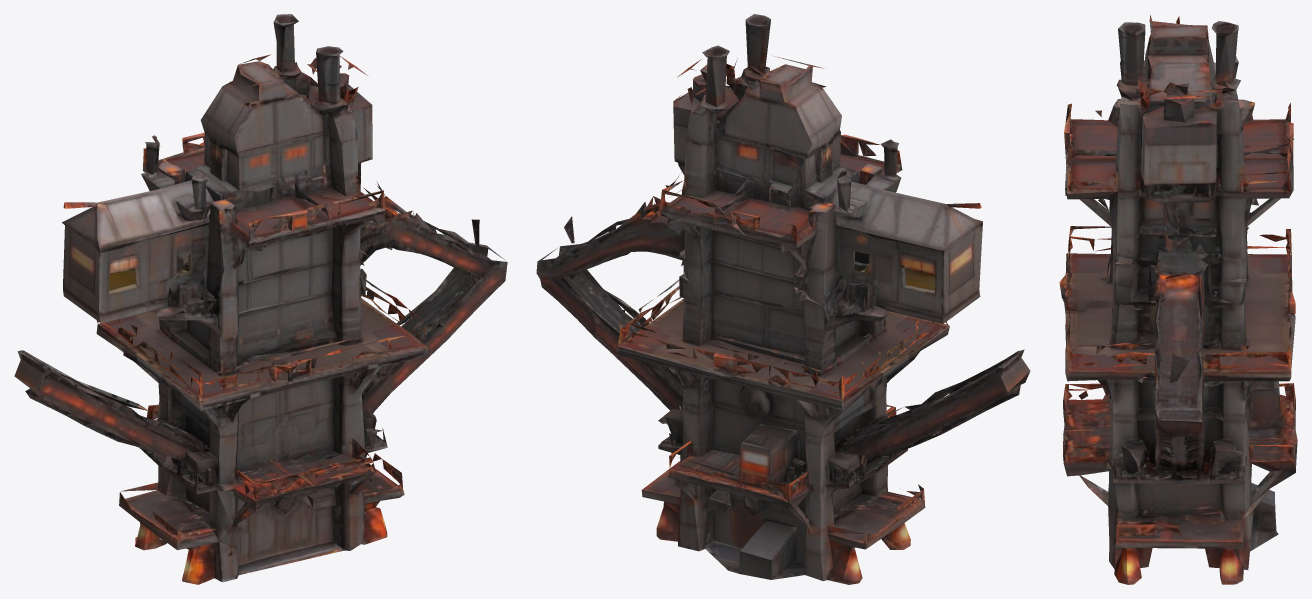
Rendered from blast_furnace.glb.
3 views of the same model, side by side, from view 1: azimuth 30°, elevation 25°; view 2: azimuth 150°, elevation 25°; view 3: azimuth 270°, elevation 25° (orthographic). The views are drawn at different scales.
Visible parts, largest first — view 1: blast_furnace; view 2: blast_furnace; view 3: blast_furnace.
Part boxes in pixels (x1,y1,x2,y2): blast_furnace: (14, 14, 507, 584); blast_furnace: (536, 14, 1030, 584); blast_furnace: (1059, 15, 1297, 584).
Bounding box in the file's own units: 1.99 × 1.99 × 0.8117.
Materials: 1 (1 with a texture image).
